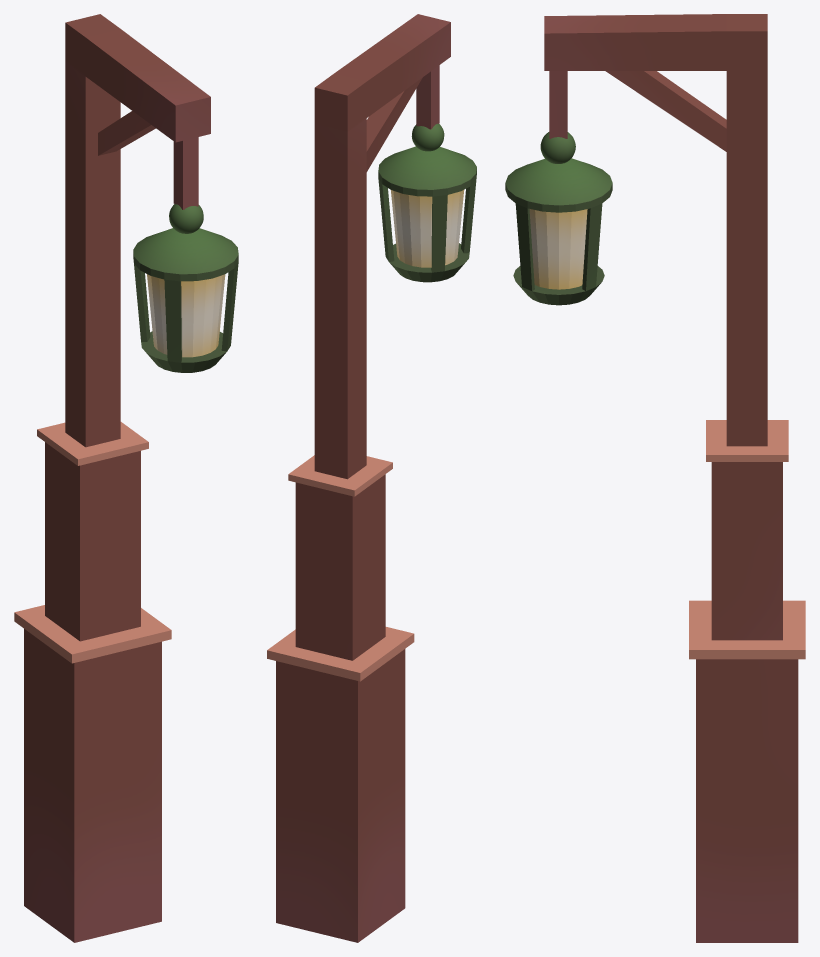
File: lantern_textured.fbx
3 renders of one model, left to right at view 1: azimuth 30°, elevation 25°; view 2: azimuth 150°, elevation 25°; view 3: azimuth 270°, elevation 25°, orthographic. The views are drawn at different scales.
Visible parts, largest first — view 1: post, lantern; view 2: post, lantern; view 3: post, lantern.
Boxes of the visible parts, left/top/right/bottom form: post: left=14, top=14, right=210, bottom=942; lantern: left=133, top=228, right=238, bottom=372; post: left=267, top=14, right=450, bottom=942; lantern: left=378, top=146, right=476, bottom=282; post: left=540, top=14, right=805, bottom=942; lantern: left=505, top=158, right=612, bottom=305.
Size of the model in its own units: 1.14 by 9.69 by 2.93.
